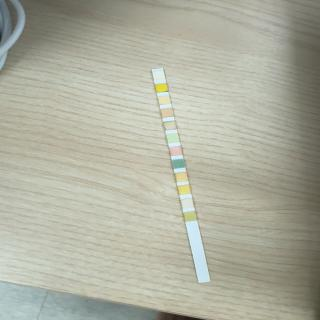mark: (182, 198, 193, 208), (156, 83, 168, 92), (167, 133, 179, 142), (184, 212, 196, 221), (175, 173, 188, 181), (153, 72, 165, 80), (158, 96, 170, 104), (164, 122, 176, 130), (170, 147, 182, 155), (173, 159, 185, 167), (178, 186, 190, 194), (162, 109, 173, 117)
